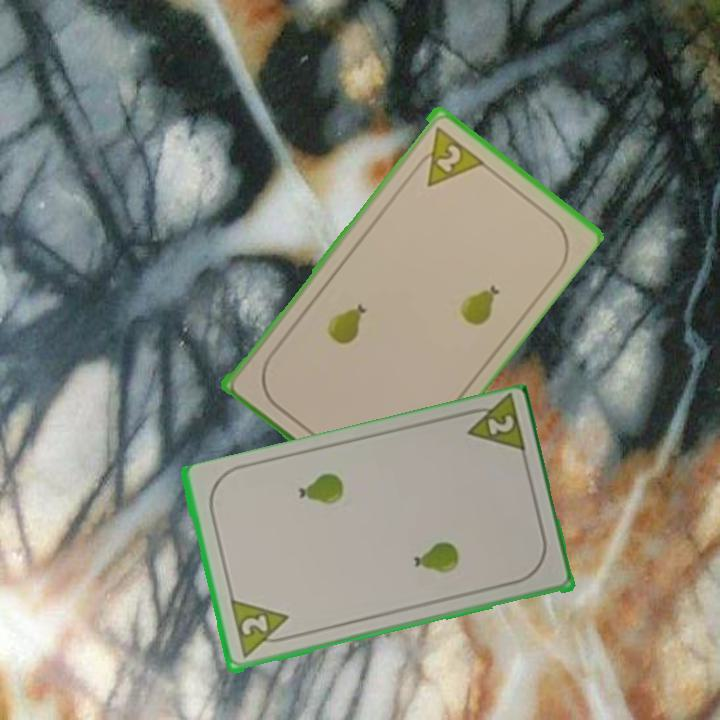2p: (409, 123, 485, 189), (457, 394, 529, 459), (226, 597, 295, 662)
